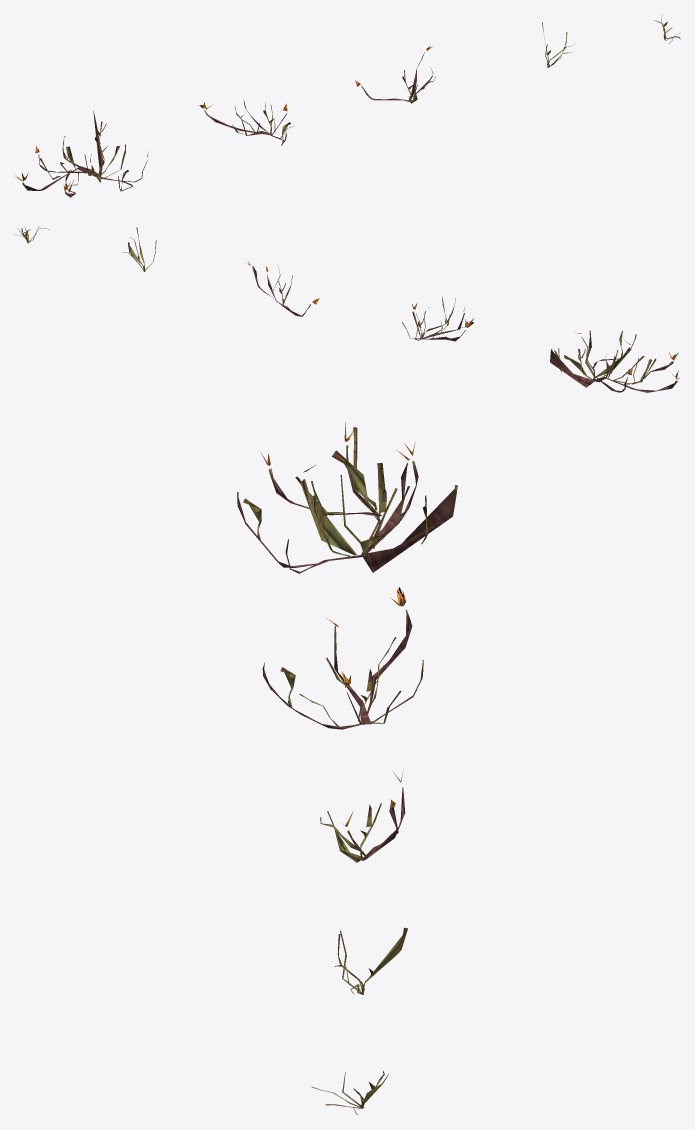
The model's file is flower_ursinia.glb.
3 renders of one model, top to bottom at view 1: azimuth 30°, elevation 25°; view 2: azimuth 150°, elevation 25°; view 3: azimuth 270°, elevation 25°, orthographic. The views are drawn at different scales.
Parts seen in each view (by area): view 1: flower_ursinia; view 2: flower_ursinia; view 3: flower_ursinia.
Boxes of the visible parts, x1,y1,x2,y2 form: flower_ursinia: (15, 14, 680, 197); flower_ursinia: (15, 226, 679, 392); flower_ursinia: (237, 422, 457, 1115).
Size of the model in its own units: 2.93 by 0.2128 by 0.4207.
1 material, 1 textured.
